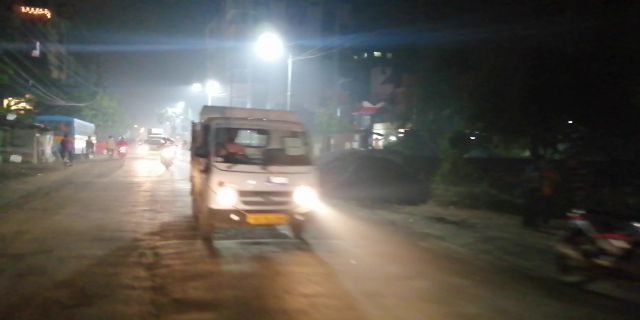Minitruck: (193, 104, 327, 243)
